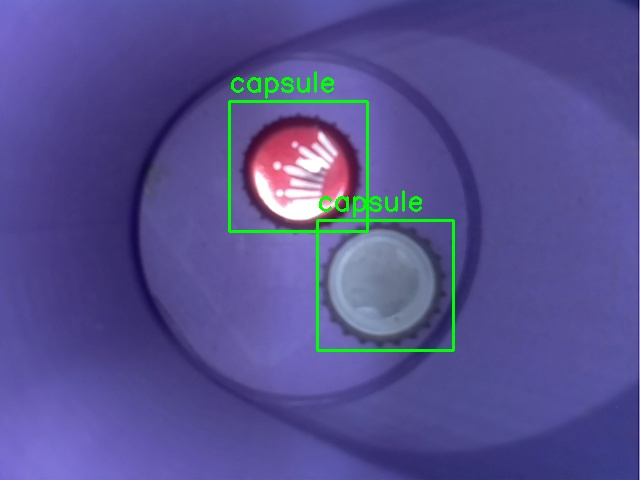capsule: (229, 101, 367, 231), (317, 220, 453, 350)
